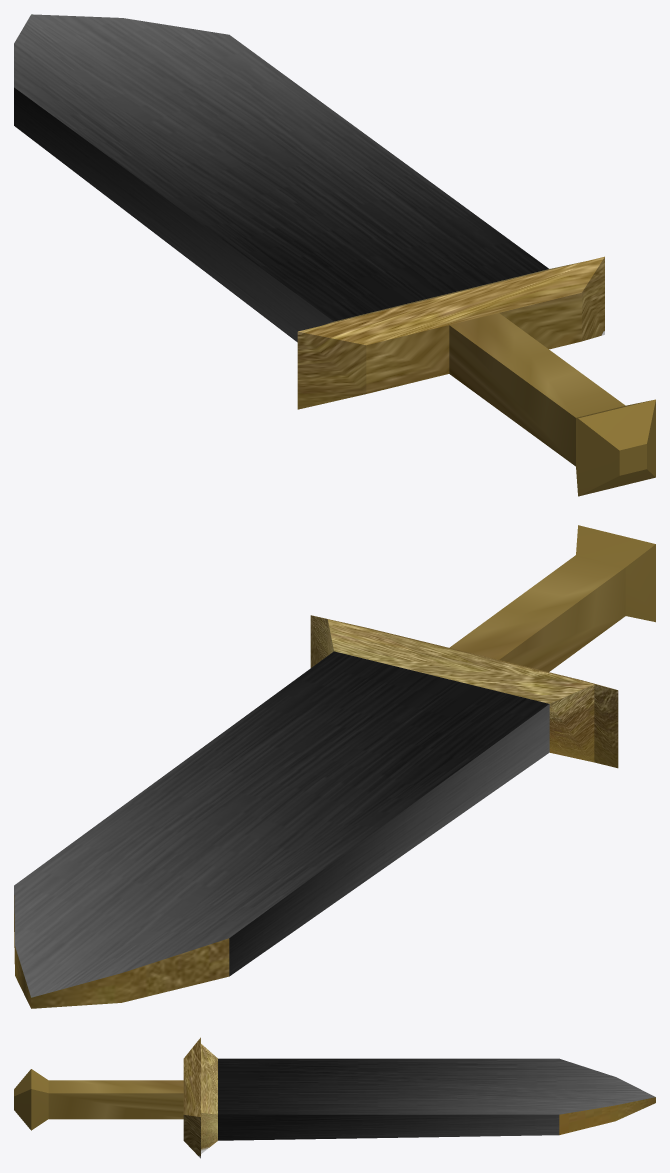
Rendered from Sword.FBX.
3 views of the same model, one above another, from view 1: azimuth 30°, elevation 25°; view 2: azimuth 150°, elevation 25°; view 3: azimuth 270°, elevation 25° (orthographic). The views are drawn at different scales.
Parts seen in each view (by area): view 1: Box001; view 2: Box001; view 3: Box001.
Part boxes in pixels (bbox=[...]): Box001: bbox=[14, 14, 655, 496]; Box001: bbox=[14, 525, 655, 1008]; Box001: bbox=[14, 1037, 655, 1158].
Bounding box in the file's own units: 1.1 × 0.2664 × 3.72.
Materials: 1 (1 with a texture image).
